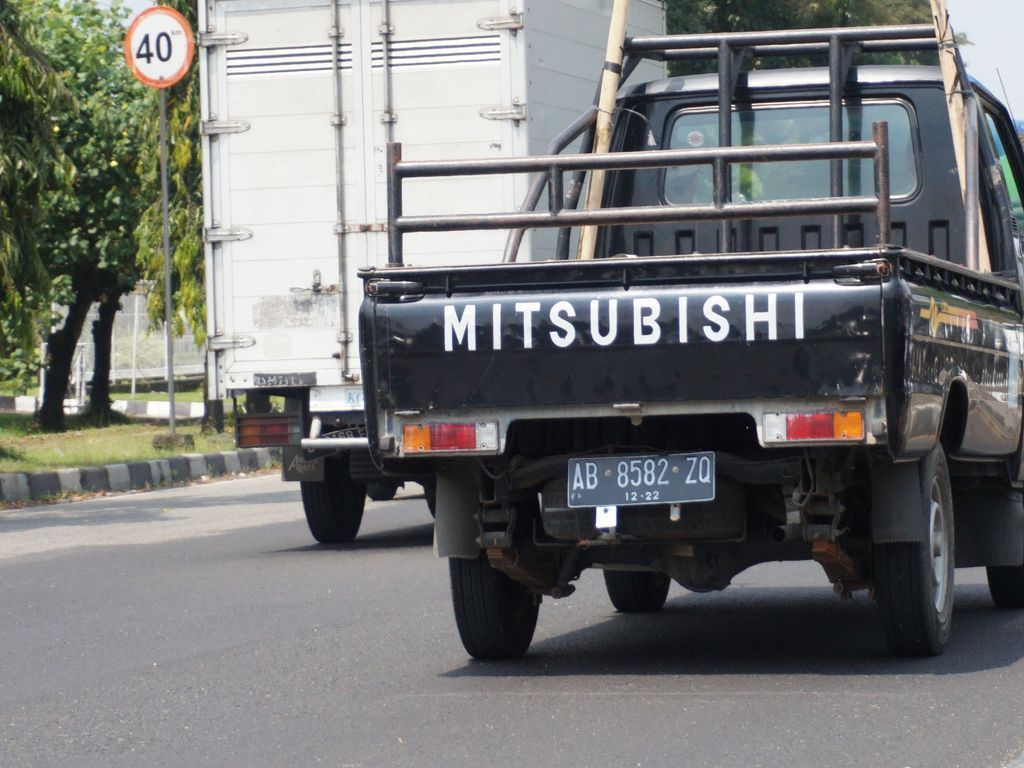plate: (571, 456, 712, 501)
